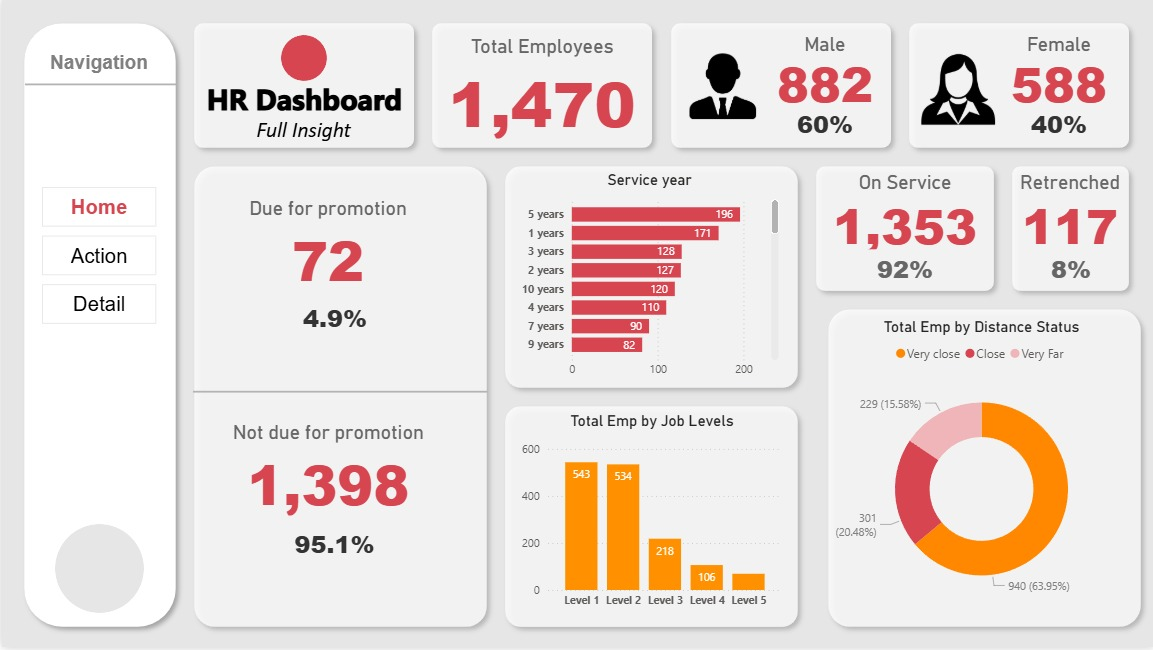

The dashboard page shown, as its layout file describes it:
{"tool":"powerbi","page":{"name":"Home","canvas":[1280,720],"ordinal":0},"visuals":[{"type":"shape","box":[15,17,188.7,690.9],"z":0},{"type":"shape","box":[203.7,17,264.6,158.8],"z":1000},{"type":"shape","box":[468.3,17,264.6,158.8],"z":2000},{"type":"shape","box":[732.9,17,264.6,158.8],"z":3000},{"type":"shape","box":[997.4,17,264.6,158.8],"z":4000},{"type":"shape","box":[203.7,175.7,345.5,532.2],"z":5000},{"type":"shape","box":[549.1,175.7,345.5,266.6],"z":6000},{"type":"shape","box":[549.1,442.3,345.5,265.6],"z":7000},{"type":"shape","box":[894.4,175.6,217.8,158.9],"z":8000},{"type":"shape","box":[1112.2,175.6,150,158.9],"z":9000},{"type":"shape","box":[907.8,334.4,367.8,373.3],"z":10000},{"type":"textbox","box":[217.8,83.3,236.7,60],"z":11000},{"type":"textbox","box":[216.7,125.6,236.7,38.9],"z":12000},{"type":"shape","box":[310,40,51.1,51.1],"z":13000},{"type":"card","title":"Total Employees","fields":{"Values":["All Measures.Total Emp"]},"box":[482.4,40,236.1,120.1],"z":14000},{"type":"card","title":"Male","fields":{"Values":["All Measures.Male"]},"box":[852,38,124.2,83.1],"z":15000},{"type":"card","title":"Male","fields":{"Values":["All Measures.% male"]},"box":[867.4,111.9,93.4,54.4],"z":16000},{"type":"card","title":"Female","fields":{"Values":["All Measures.Female"]},"box":[1112.7,38,124.2,83.1],"z":17000},{"type":"card","title":"Male","fields":{"Values":["All Measures.% female"]},"box":[1128.1,111.9,93.4,54.4],"z":18000},{"type":"image","box":[758.6,54.4,84.2,85.2],"z":19000},{"type":"image","box":[1014.1,54.4,95.5,92.4],"z":20000},{"type":"card","title":"Due for promotion","fields":{"Values":["All Measures.Due for promotion"]},"box":[254.6,220.2,215.6,109.8],"z":21000},{"type":"card","title":"Male","fields":{"Values":["All Measures.% due"]},"box":[323.3,327.7,93.3,54.4],"z":22000},{"type":"card","title":"Not due for promotion","fields":{"Values":["All Measures.Not due for promotion"]},"box":[244.3,469.1,236.1,109.8],"z":23000},{"type":"card","title":"Male","fields":{"Values":["All Measures.% Not due"]},"box":[316.7,578.9,105.6,54.4],"z":24000},{"type":"shape","box":[212.7,430,327.3,12.7],"z":25000},{"type":"barChart","title":"Service year","fields":{"Category":["HR Analytics Data.Service year"],"Y":["All Measures.Total Emp"]},"box":[571.1,191.1,296.7,238.9],"z":26000},{"type":"columnChart","fields":{"Category":["HR Analytics Data.Job Levels"],"Y":["All Measures.Total Emp"]},"box":[572.2,458.9,300,227.8],"z":27000},{"type":"card","title":"On Service","fields":{"Values":["All Measures.On Service"]},"box":[914.4,191.1,177.8,92.2],"z":28000},{"type":"card","title":"Male","fields":{"Values":["All Measures.% on service"]},"box":[952.2,283.3,102.2,35.6],"z":29000},{"type":"card","title":"Retrenched","fields":{"Values":["All Measures.Will be retrenched"]},"box":[1097.8,191.1,177.8,92.2],"z":30000},{"type":"card","title":"Male","fields":{"Values":["All Measures.% retrenched"]},"box":[1136.7,283.3,102.2,35.6],"z":31000},{"type":"donutChart","fields":{"Category":["HR Analytics Data.Distance Status"],"Y":["All Measures.Total Emp"]},"box":[914.4,354.4,347.8,332.2],"z":32000},{"type":"pageNavigator","box":[44.4,208.9,127.8,153.3],"z":33000},{"type":"shape","box":[58.9,583.3,98.9,98.9],"z":33001},{"type":"textbox","box":[28.9,53.3,157.8,43.3],"z":33002},{"type":"shape","box":[25,89,169,12],"z":33003}]}

Visuals, with their boxes in screenshot pixels (x1, y1, x2, y2), scaled from the page's 1280x720 canvas onto the 1153x650 screenshot:
shape: BBox(14, 15, 183, 639)
shape: BBox(183, 15, 422, 159)
shape: BBox(422, 15, 660, 159)
shape: BBox(660, 15, 899, 159)
shape: BBox(898, 15, 1137, 159)
shape: BBox(183, 159, 495, 639)
shape: BBox(495, 159, 806, 399)
shape: BBox(495, 399, 806, 639)
shape: BBox(806, 159, 1002, 302)
shape: BBox(1002, 159, 1137, 302)
shape: BBox(818, 302, 1149, 639)
textbox: BBox(196, 75, 409, 129)
textbox: BBox(195, 113, 408, 149)
shape: BBox(279, 36, 325, 82)
"Total Employees" card: BBox(435, 36, 647, 145)
"Male" card: BBox(767, 34, 879, 109)
"Male" card: BBox(781, 101, 865, 150)
"Female" card: BBox(1002, 34, 1114, 109)
"Male" card: BBox(1016, 101, 1100, 150)
image: BBox(683, 49, 759, 126)
image: BBox(913, 49, 1000, 133)
"Due for promotion" card: BBox(229, 199, 424, 298)
"Male" card: BBox(291, 296, 375, 345)
"Not due for promotion" card: BBox(220, 423, 433, 523)
"Male" card: BBox(285, 523, 380, 572)
shape: BBox(192, 388, 486, 400)
"Service year" barChart: BBox(514, 173, 782, 388)
columnChart - HR Analytics Data.Job Levels x All Measures.Total Emp: BBox(515, 414, 786, 620)
"On Service" card: BBox(824, 173, 984, 256)
"Male" card: BBox(858, 256, 950, 288)
"Retrenched" card: BBox(989, 173, 1149, 256)
"Male" card: BBox(1024, 256, 1116, 288)
donutChart - HR Analytics Data.Distance Status x All Measures.Total Emp: BBox(824, 320, 1137, 620)
pageNavigator: BBox(40, 189, 155, 327)
shape: BBox(53, 527, 142, 616)
textbox: BBox(26, 48, 168, 87)
shape: BBox(23, 80, 175, 91)
